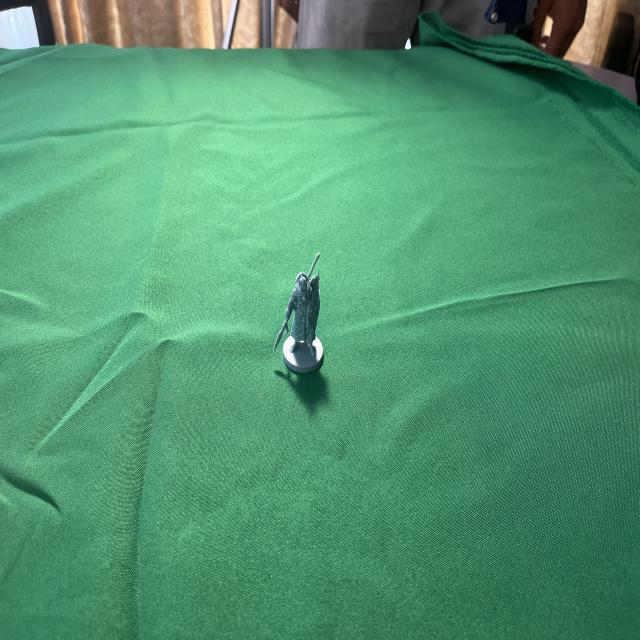isis_follower: (268, 244, 328, 378)
